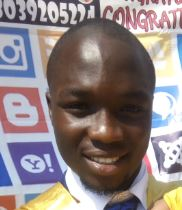without_facemask: (59, 120, 145, 195)
